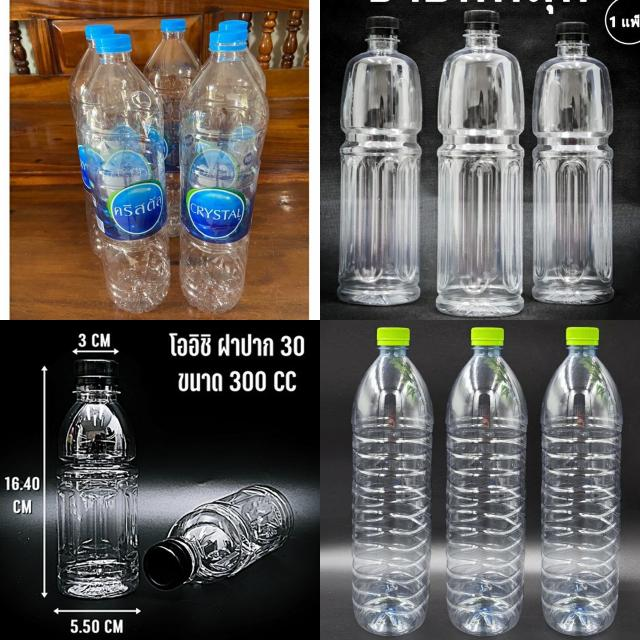plastik: (436, 10, 524, 316), (78, 34, 170, 312), (351, 328, 434, 634), (446, 328, 528, 636), (180, 31, 269, 313), (541, 328, 622, 636), (338, 18, 422, 304), (532, 22, 614, 304), (56, 360, 139, 598), (142, 485, 294, 590)
